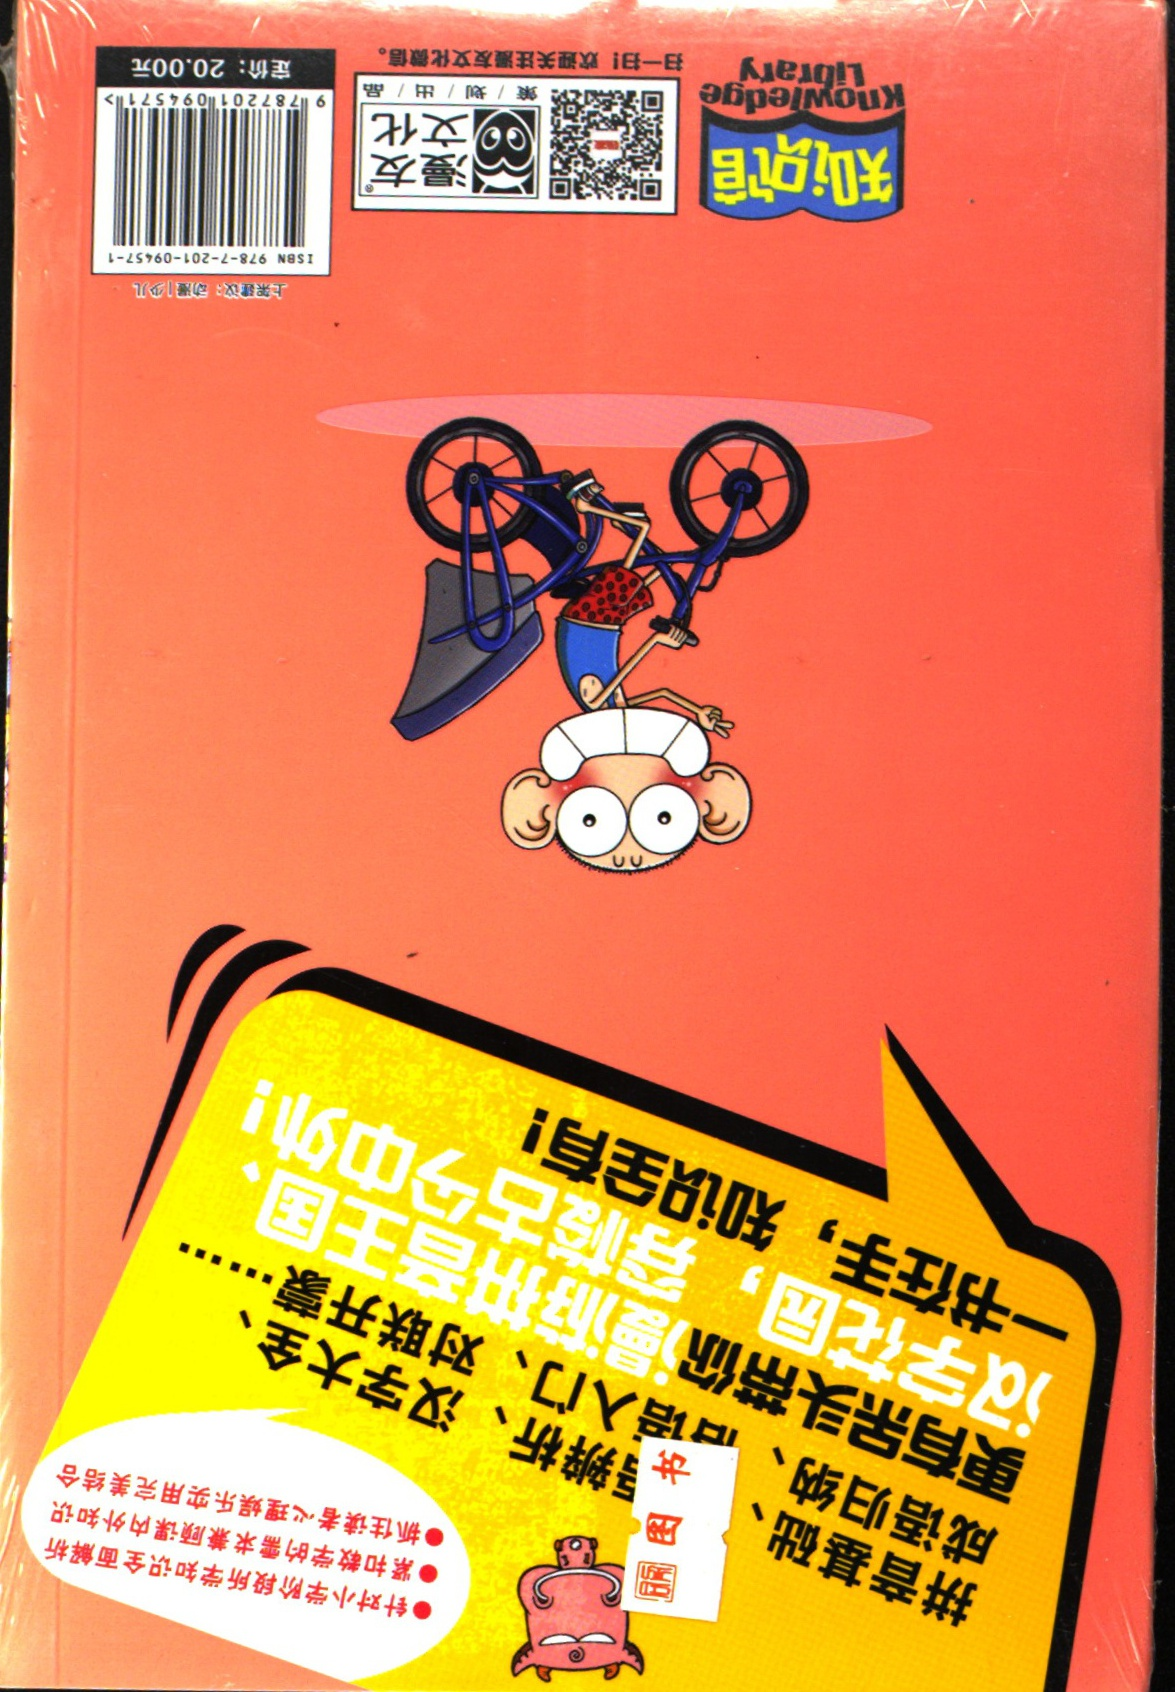barcode: (100, 44, 333, 271)
